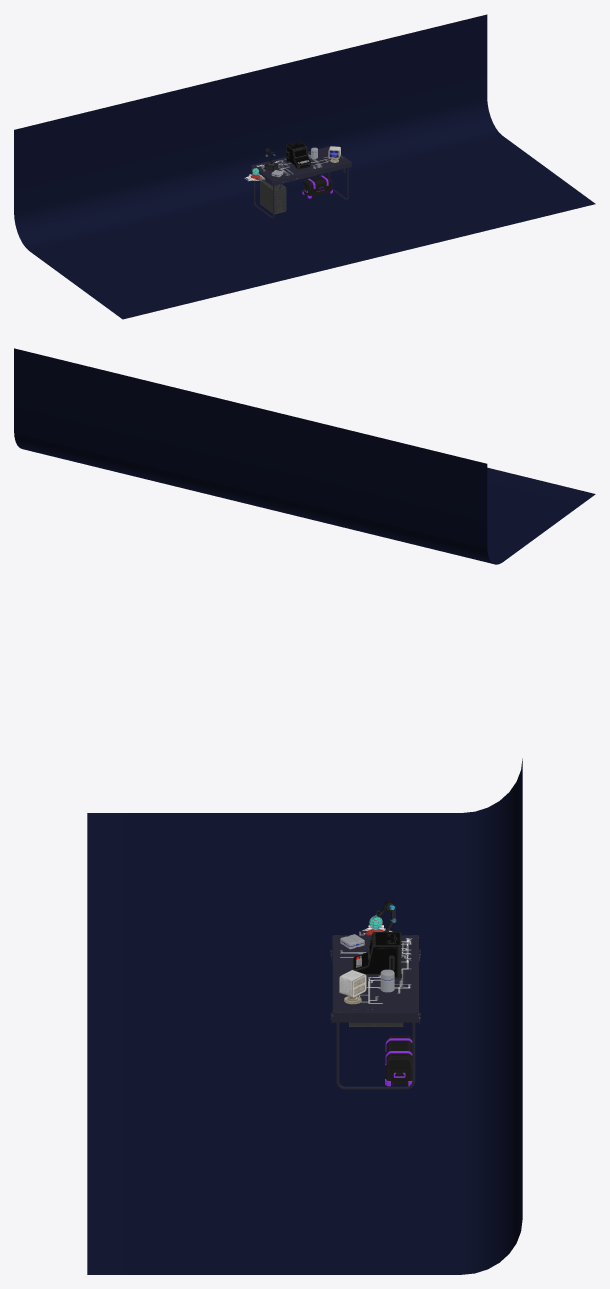
Rendered from desk__design___sci-fi_workstation__neon_termi.glb.
The picture shows the model from 3 angles, top to bottom: view 1: azimuth 30°, elevation 25°; view 2: azimuth 150°, elevation 25°; view 3: azimuth 270°, elevation 25°; orthographic projection. The views are drawn at different scales.
Parts seen in each view (by area): view 1: defaultMaterial (×5); view 2: defaultMaterial; view 3: defaultMaterial (×4).
Boxes of the visible parts, x1=… form: defaultMaterial (×5): x1=14, y1=14, x2=595, y2=319; defaultMaterial: x1=14, y1=348, x2=595, y2=564; defaultMaterial (×4): x1=87, y1=758, x2=522, y2=1274.
Size of the model in its own units: 66.44 by 14.76 by 26.46.
12 materials, 9 textured.
